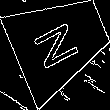N_NE: (32, 13, 88, 71)
